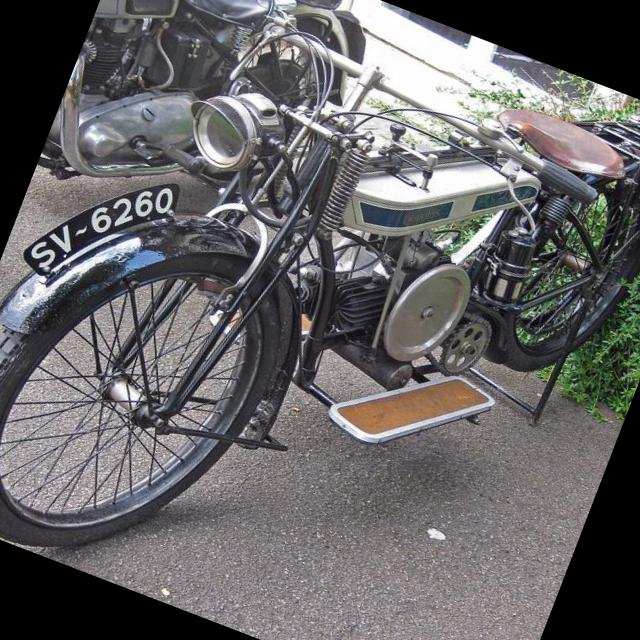motorbike: (0, 0, 640, 640), (39, 0, 420, 273)
